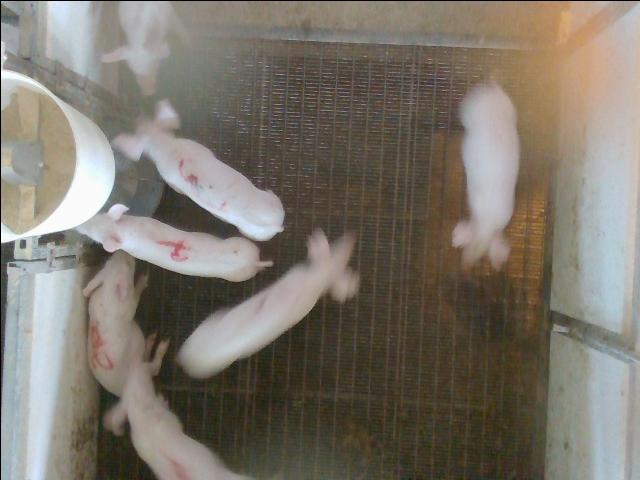pig-1: (119, 359, 247, 480)
pig-2: (178, 229, 358, 376)
pig-3: (111, 99, 284, 240)
pig-4: (75, 204, 270, 281)
pig-5: (82, 250, 145, 395)
